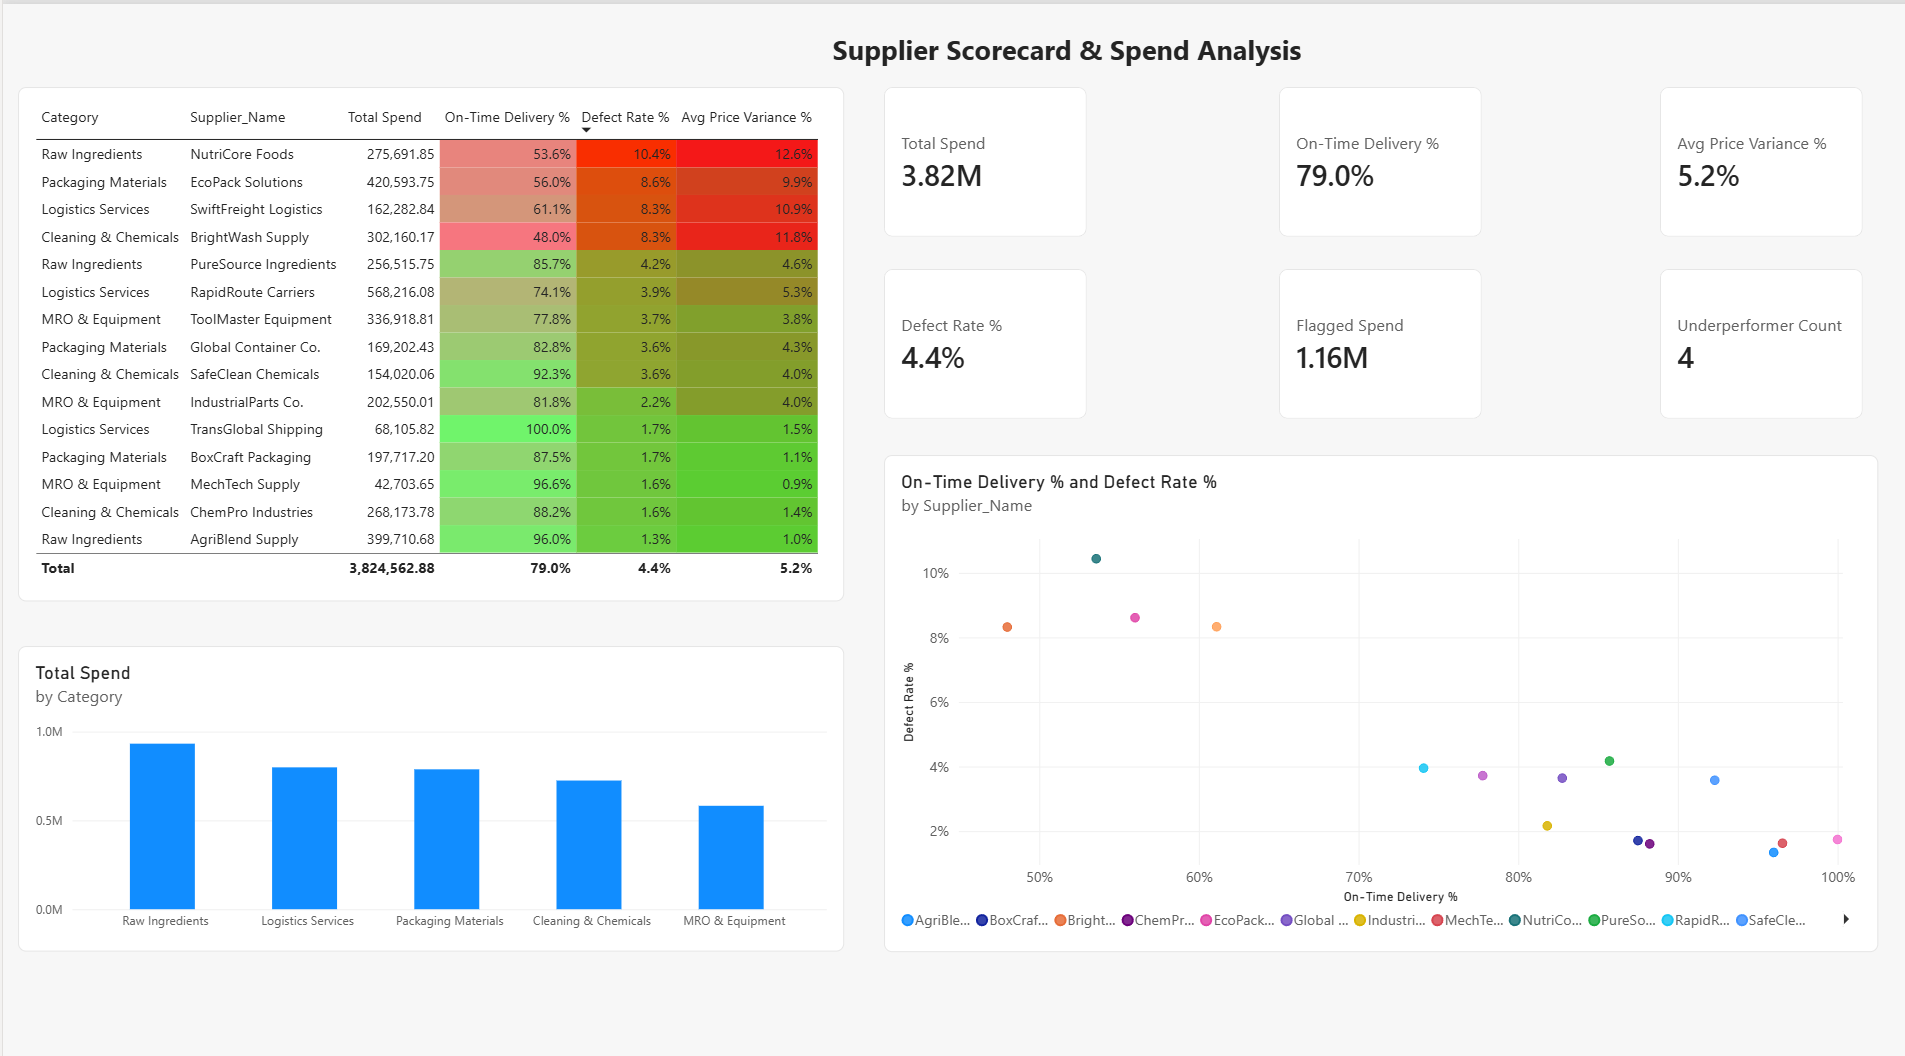

The page's visual inventory and layout, read from the dashboard file:
{"tool":"powerbi","page":{"name":"Page 1","canvas":[1920,1080],"ordinal":0},"visuals":[{"type":"cardVisual","fields":{"Data":["Purchase_Orders.Total Spend"]},"box":[864.8,81.5,199.3,147.2],"z":0},{"type":"cardVisual","fields":{"Data":["Purchase_Orders.On-Time Delivery %"]},"box":[1252.5,81.5,199.3,147.2],"z":1},{"type":"cardVisual","fields":{"Data":["Purchase_Orders.Defect Rate %"]},"box":[864.8,260.1,199.3,147.2],"z":2},{"type":"cardVisual","fields":{"Data":["Purchase_Orders.Avg Price Variance %"]},"box":[1626.5,81.5,199.3,147.2],"z":3},{"type":"tableEx","fields":{"Values":["Suppliers.Category","Suppliers.Supplier_Name","Purchase_Orders.Total Spend","Purchase_Orders.On-Time Delivery %","Purchase_Orders.Defect Rate %","Purchase_Orders.Avg Price Variance %"]},"box":[14.7,81.5,810.8,504.5],"z":4},{"type":"clusteredColumnChart","fields":{"Category":["Suppliers.Category"],"Y":["Purchase_Orders.Total Spend"]},"box":[14.7,630.2,810.8,300.4],"z":5},{"type":"cardVisual","fields":{"Data":["Suppliers.Underperformer Count"]},"box":[1626.5,260.1,199.3,147.2],"z":6},{"type":"cardVisual","fields":{"Data":["Suppliers.Flagged Spend"]},"box":[1252.5,260.1,199.3,147.2],"z":7},{"type":"scatterChart","fields":{"Series":["Suppliers.Supplier_Name"],"X":["Purchase_Orders.On-Time Delivery %"],"Y":["Purchase_Orders.Defect Rate %"]},"box":[864.8,442.7,961,487.9],"z":8},{"type":"textbox","box":[507.5,25.5,1073.9,47.1],"z":9}]}

Visuals, with their boxes in screenshot pixels (x1, y1, x2, y2), scaled from the page's 1920x1080 canvas onto the 1905x1056 screenshot:
cardVisual - Purchase_Orders.Total Spend: 858 80 1056 224
cardVisual - Purchase_Orders.On-Time Delivery %: 1243 80 1440 224
cardVisual - Purchase_Orders.Defect Rate %: 858 254 1056 398
cardVisual - Purchase_Orders.Avg Price Variance %: 1614 80 1812 224
tableEx - Suppliers.Category x Suppliers.Supplier_Name: 15 80 819 573
clusteredColumnChart - Suppliers.Category x Purchase_Orders.Total Spend: 15 616 819 910
cardVisual - Suppliers.Underperformer Count: 1614 254 1812 398
cardVisual - Suppliers.Flagged Spend: 1243 254 1440 398
scatterChart - Suppliers.Supplier_Name x Purchase_Orders.On-Time Delivery %: 858 433 1812 910
textbox: 504 25 1569 71
